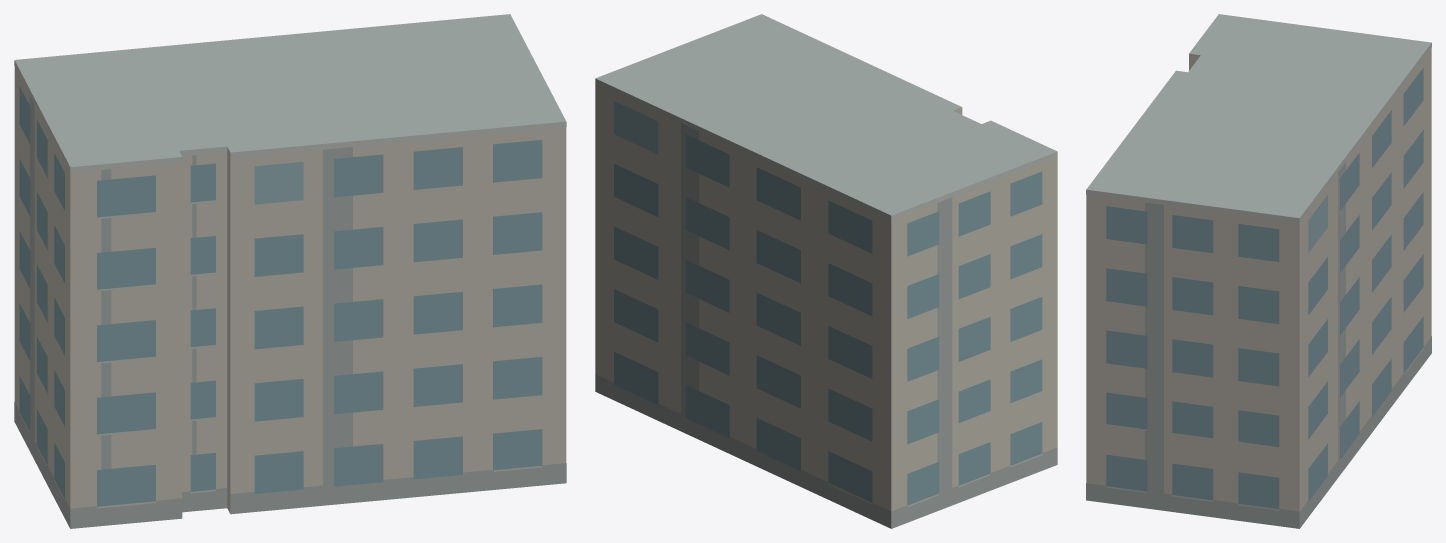
Rendered from survey-upis-32810291.glb.
The picture shows the model from 3 angles, left to right: view 1: azimuth 30°, elevation 25°; view 2: azimuth 150°, elevation 25°; view 3: azimuth 270°, elevation 25°; orthographic projection. The views are drawn at different scales.
Parts seen in each view (by area): view 1: survey-upis-32810291.tmp; view 2: survey-upis-32810291.tmp; view 3: survey-upis-32810291.tmp.
Boxes of the visible parts, x1,y1,x2,y2 form: survey-upis-32810291.tmp: [14, 14, 566, 528]; survey-upis-32810291.tmp: [595, 14, 1057, 528]; survey-upis-32810291.tmp: [1086, 14, 1431, 528].
Bounding box in the file's own units: 21.5 × 15.25 × 15.38.
